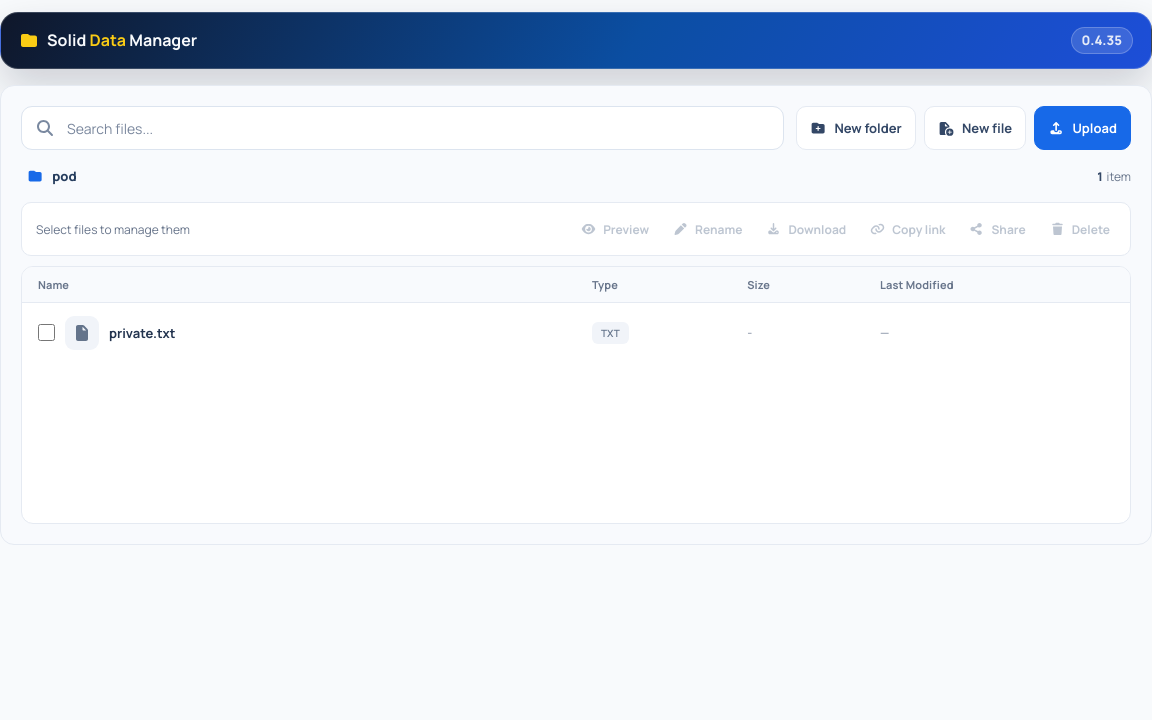
it: authenticated media previews › does not offer to edit an error response after a denied preview
Click the text "private.txt" at (576, 333), box [22, 303, 1130, 363]
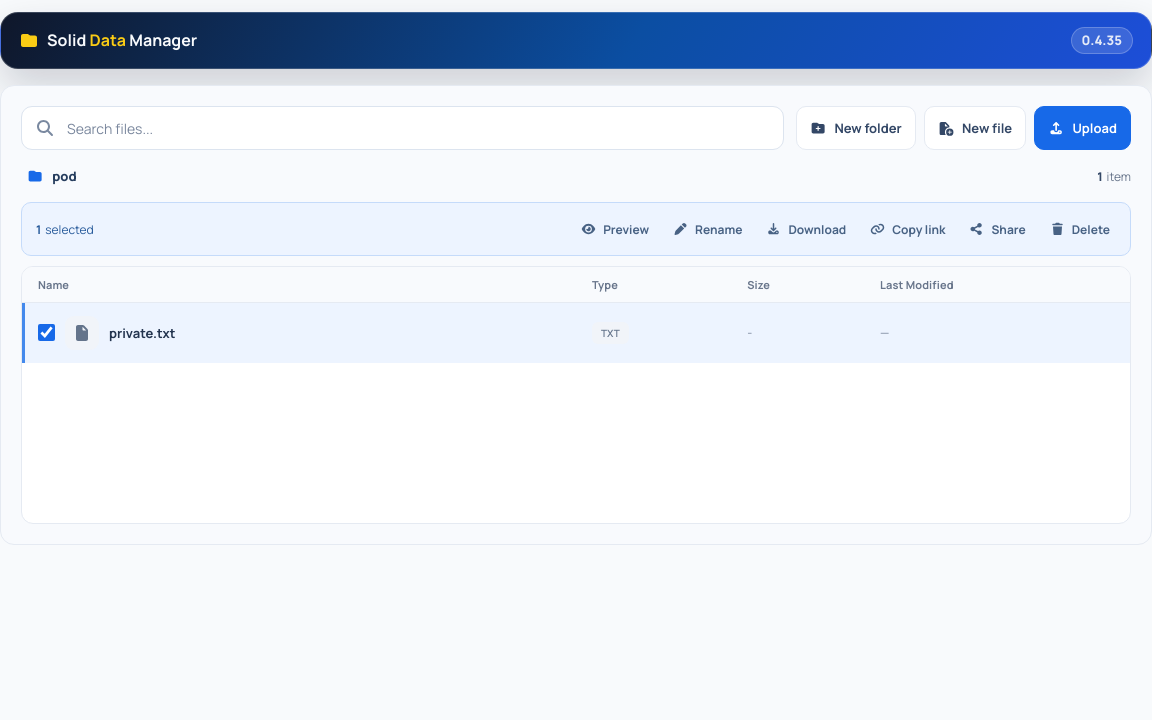
Click the button titled "Preview" at (615, 229), box [571, 209, 659, 249]
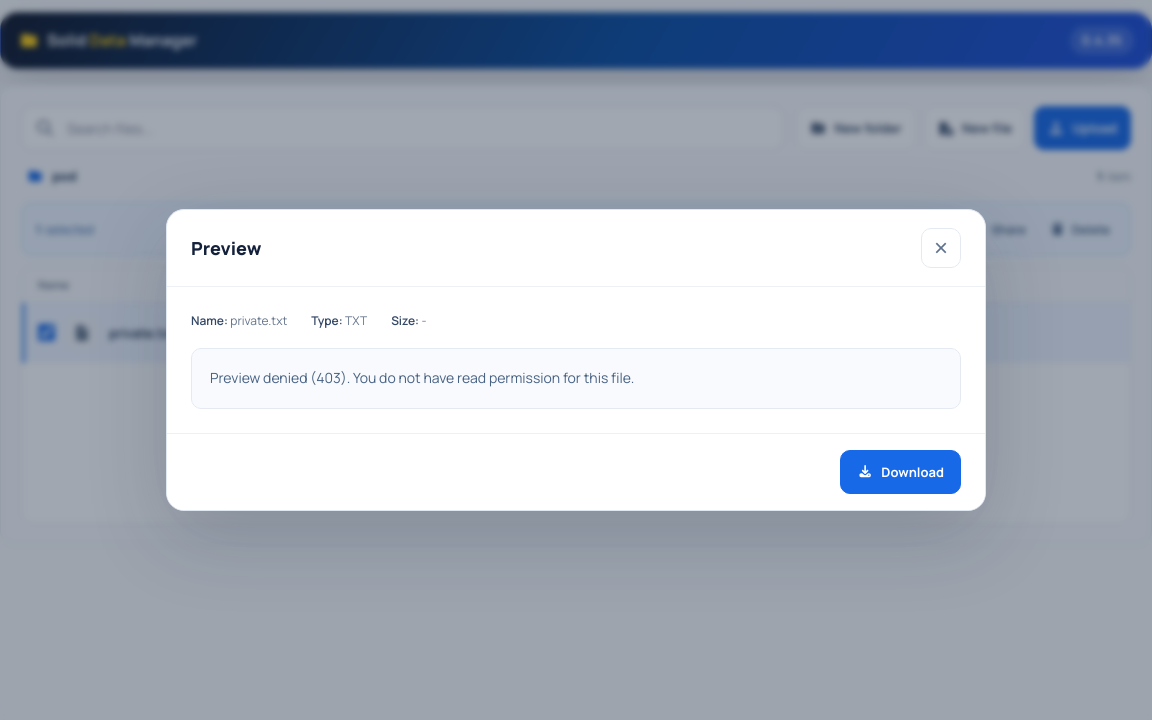
Expected: the text "Preview denied (403). You do not have read permission for this file." is shown, [191, 348, 961, 409]
